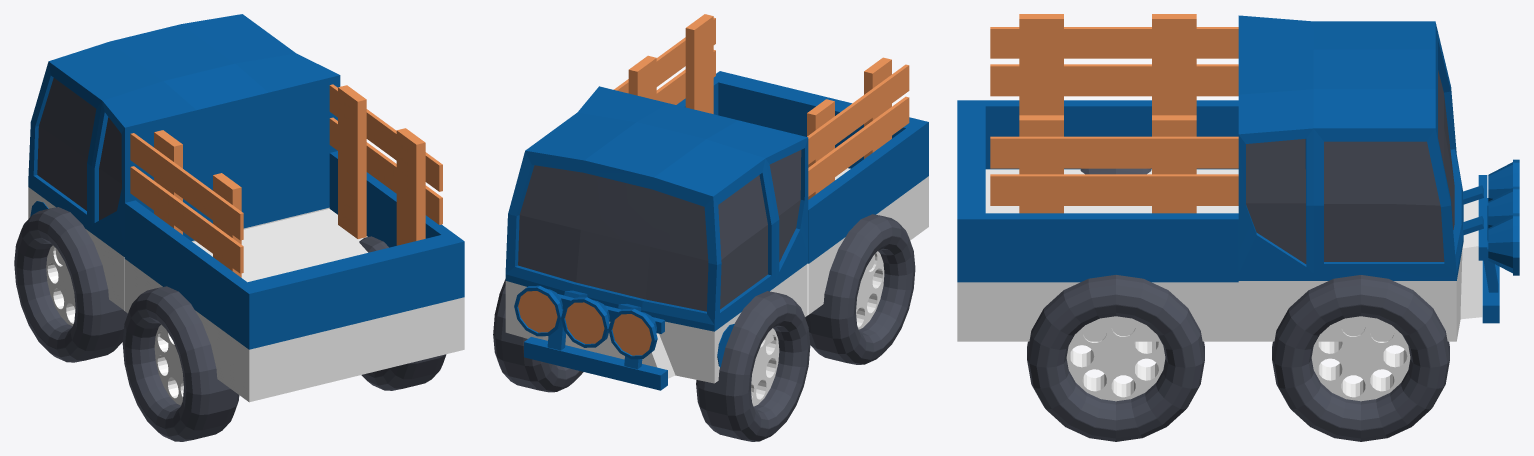
Rendered from FlatBedTruck.obj.
3 views of the same model, side by side, from view 1: azimuth 30°, elevation 25°; view 2: azimuth 150°, elevation 25°; view 3: azimuth 270°, elevation 25° (orthographic). The views are drawn at different scales.
Bounding box in the file's own units: 1.21 × 1.21 × 2.
